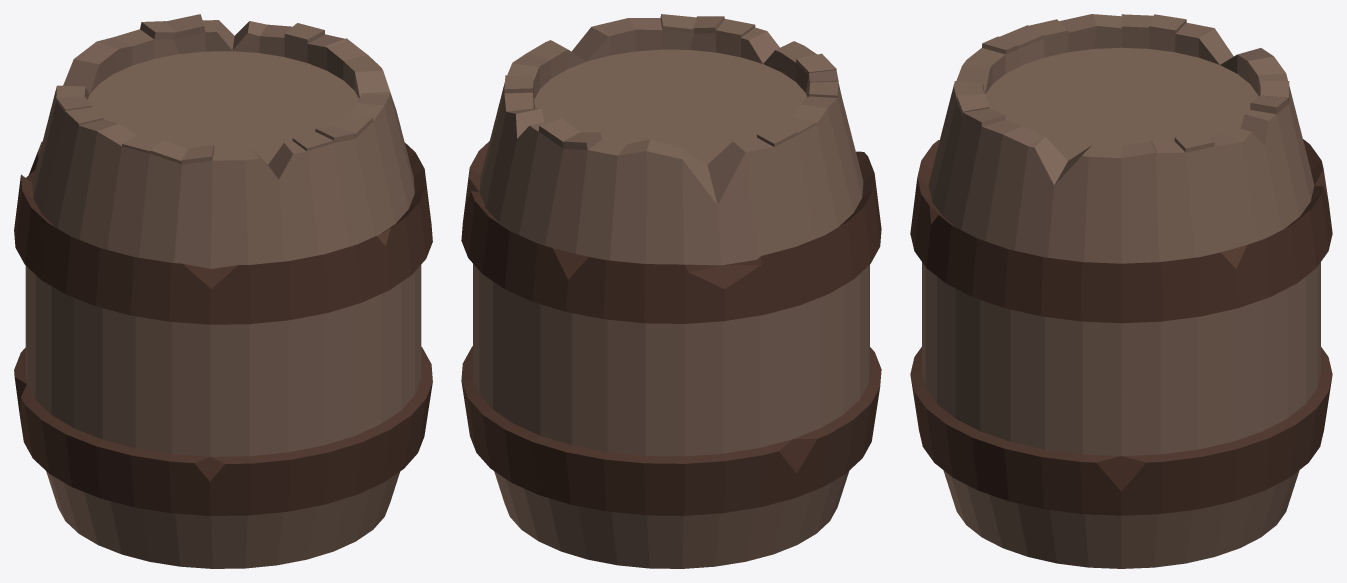
The model's file is barrel.fbx.
3 renders of one model, left to right at view 1: azimuth 30°, elevation 25°; view 2: azimuth 150°, elevation 25°; view 3: azimuth 270°, elevation 25°, orthographic.
Parts seen in each view (by area): view 1: Cylinder; view 2: Cylinder; view 3: Cylinder.
Boxes of the visible parts, x1,y1,x2,y2 form: Cylinder: (14,14,432,568); Cylinder: (461,14,881,568); Cylinder: (910,14,1332,568).
Bounding box in the file's own units: 411 × 449 × 411.
